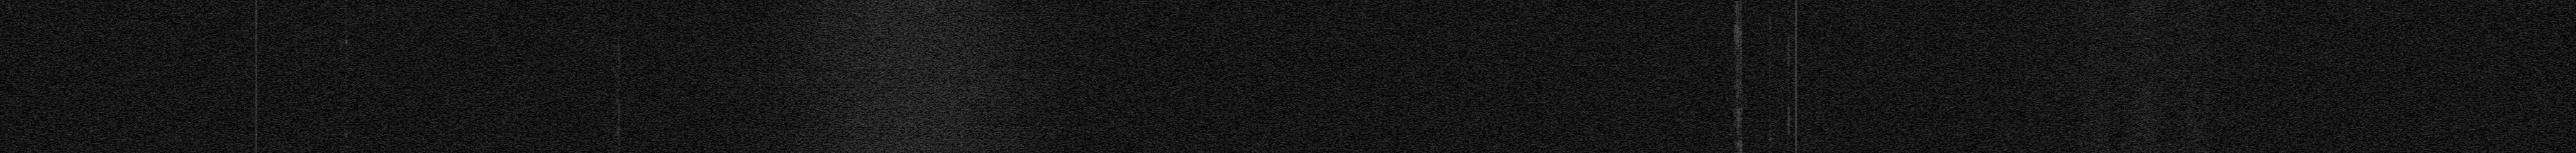wv_cw: (255, 0, 258, 153), (1794, 0, 1797, 153)
wv_lsb: (1733, 0, 1743, 153), (611, 0, 621, 79), (611, 81, 621, 153), (338, 0, 348, 69), (338, 69, 348, 112), (338, 112, 348, 130), (340, 132, 348, 150), (343, 150, 347, 153), (340, 67, 342, 71)
wv_usb: (1768, 0, 1778, 153), (1787, 35, 1796, 74), (1787, 105, 1794, 141), (1787, 0, 1794, 13), (1787, 76, 1789, 94), (1787, 23, 1789, 35), (1787, 94, 1789, 100), (1787, 18, 1789, 23), (1787, 13, 1789, 18), (1787, 150, 1789, 153), (1787, 145, 1789, 148), (1787, 100, 1789, 104)
wv_wbfm: (695, 0, 1119, 153), (2026, 0, 2275, 153), (2026, 100, 2037, 105), (695, 79, 706, 84), (2026, 137, 2037, 140), (2021, 74, 2031, 77), (1122, 23, 1127, 26), (1112, 81, 1122, 82), (692, 21, 700, 23), (2021, 64, 2029, 66), (1122, 74, 1129, 76), (1115, 74, 1120, 76), (1122, 77, 1127, 79), (1127, 23, 1130, 25), (683, 79, 685, 82), (1130, 74, 1132, 76)
